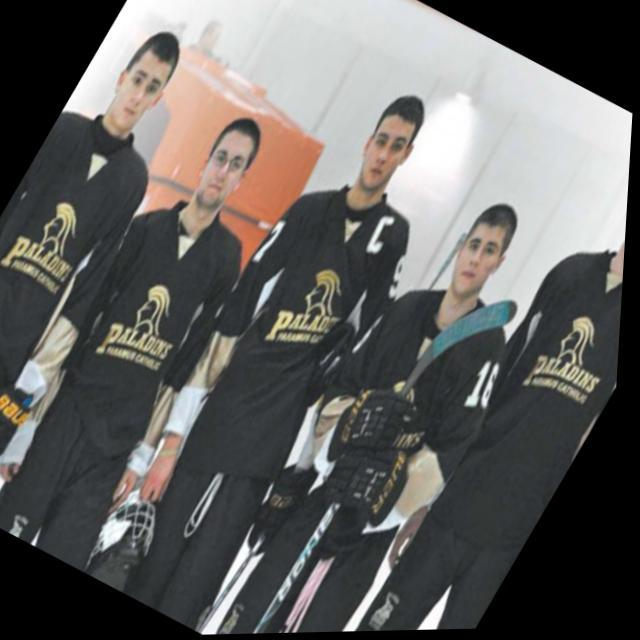Nonhelmet: (339, 84, 433, 205), (181, 109, 279, 220), (443, 183, 520, 308), (113, 25, 187, 134)
